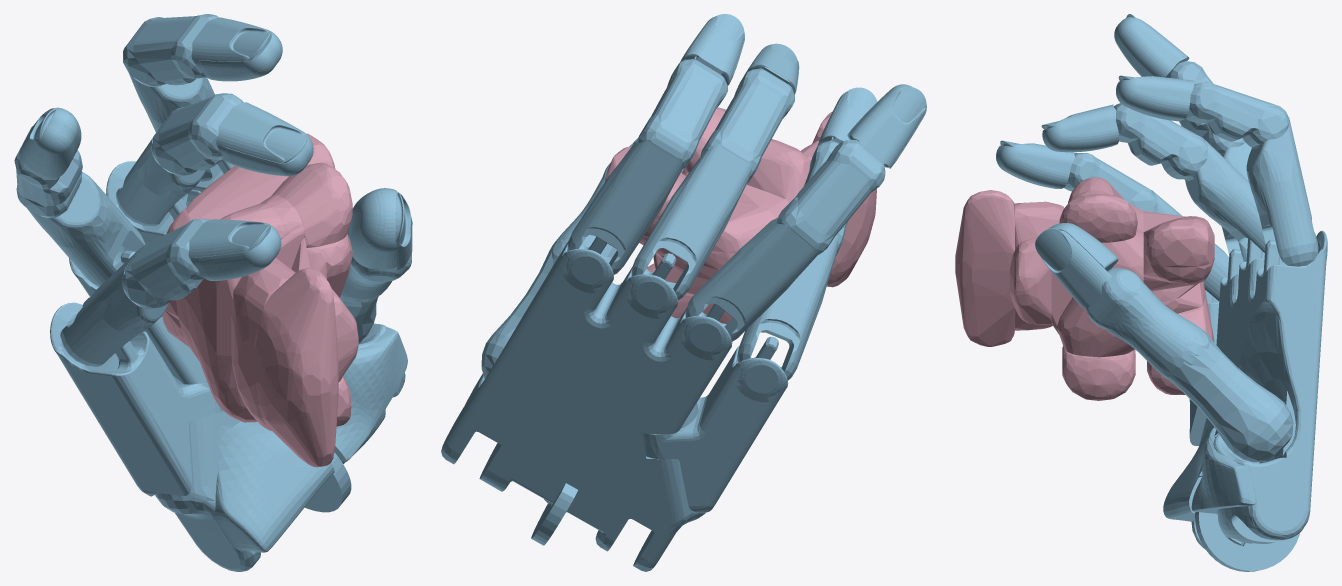
3 views of the same model, side by side, from view 1: azimuth 30°, elevation 25°; view 2: azimuth 150°, elevation 25°; view 3: azimuth 270°, elevation 25° (orthographic). The views are drawn at different scales.
Parts seen in each view (by area): view 1: hand_isaac_q, world; view 2: hand_isaac_q, world; view 3: hand_isaac_q, world.
Part boxes in pixels (x1,y1,x2,y2): hand_isaac_q: [14, 14, 412, 571]; world: [162, 133, 358, 467]; hand_isaac_q: [441, 14, 926, 571]; world: [605, 107, 876, 332]; hand_isaac_q: [996, 14, 1327, 571]; world: [955, 177, 1214, 400].
Bounding box in the file's own units: 0.149 × 0.1855 × 0.1341.
